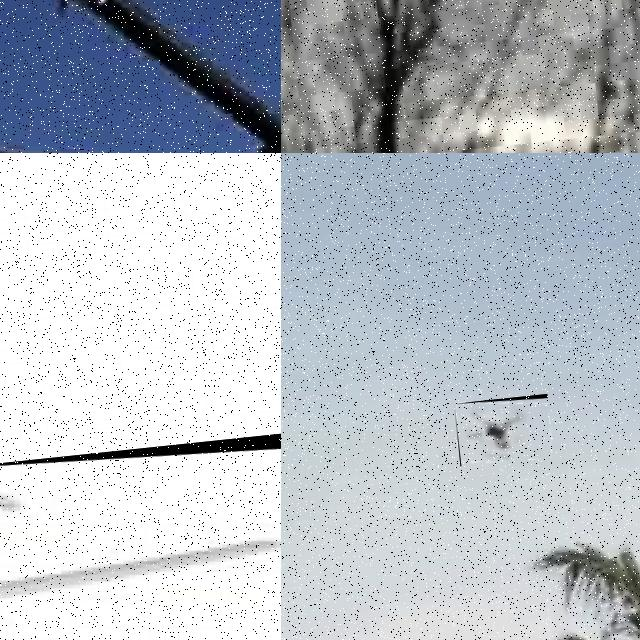drone: (0, 401, 281, 640), (0, 0, 281, 153), (454, 394, 554, 466)
